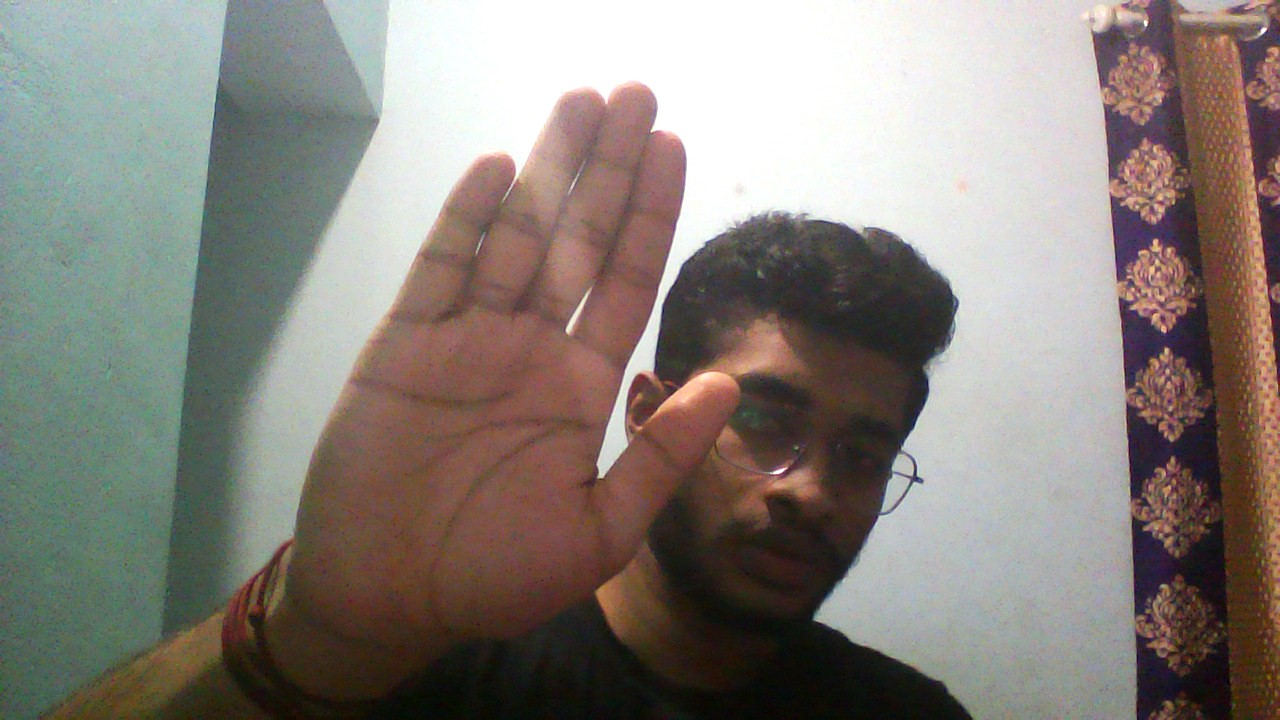Hello: (289, 28, 745, 651)
